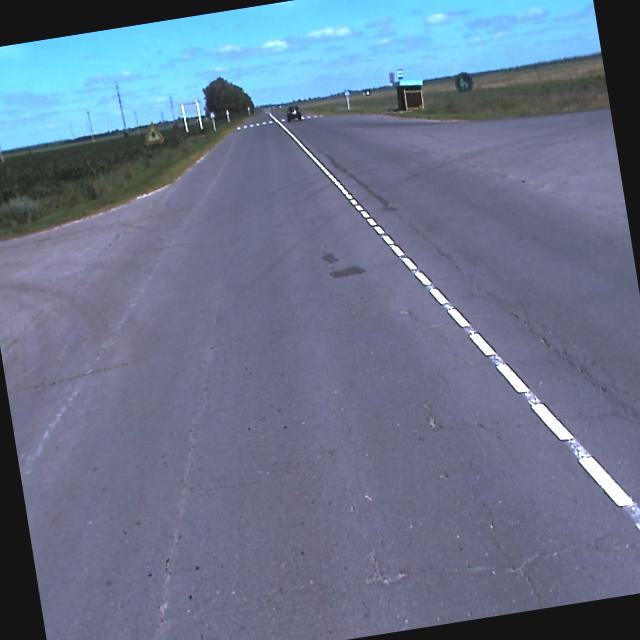road: (0, 104, 640, 640)
